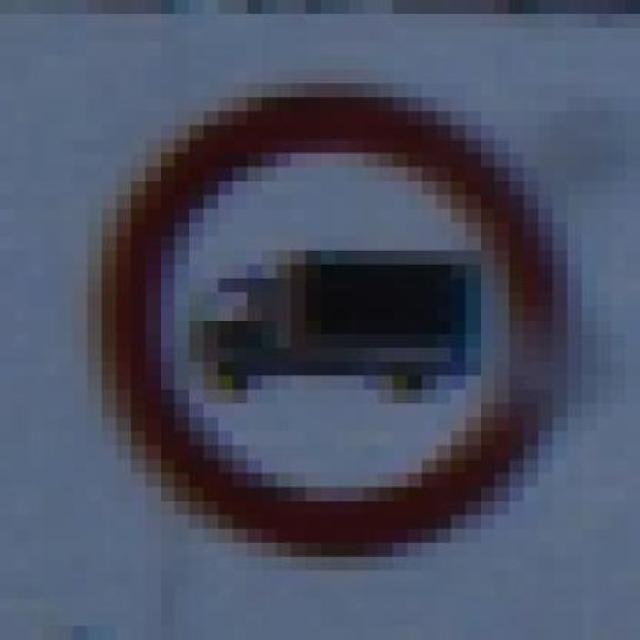Truck traffic is prohibited: (55, 65, 593, 567)
